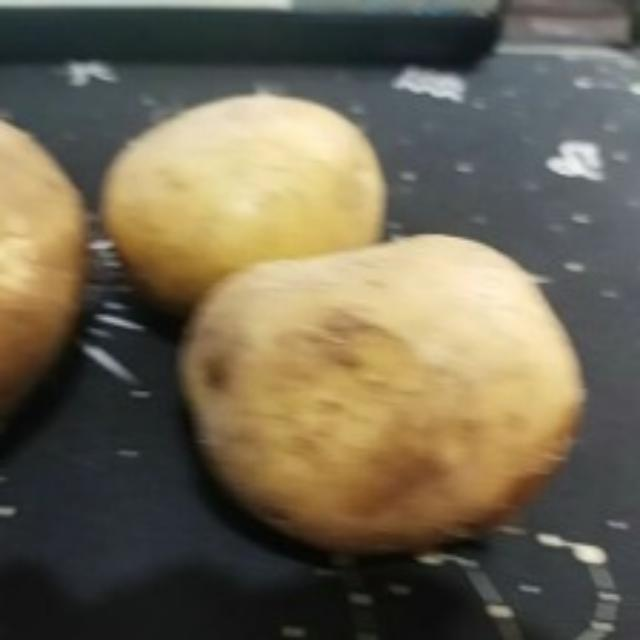Damaged potato: (173, 229, 594, 553)
Potato: (102, 88, 400, 310), (0, 107, 96, 481)
